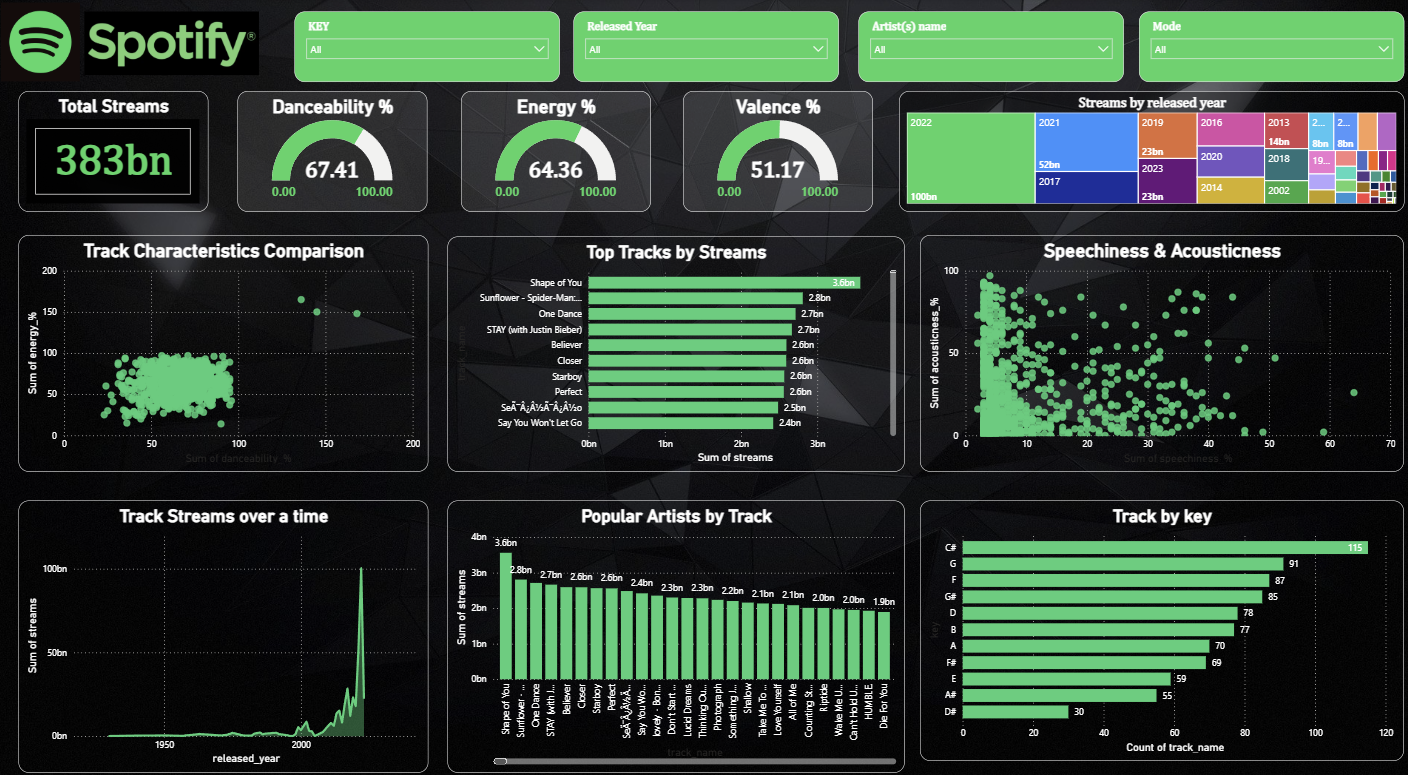

This screenshot's page, from the dashboard's own definition file:
{"tool":"powerbi","page":{"name":"Page 1","canvas":[1920,1080],"ordinal":0},"visuals":[{"type":"slicer","fields":{"Values":["Spotify Dataset.key"]},"box":[404.3,18.2,358.9,95.4],"z":0},{"type":"slicer","fields":{"Values":["Spotify Dataset.released_year"]},"box":[781.3,18.2,358.9,95.4],"z":1000},{"type":"slicer","fields":{"Values":["Spotify Dataset.artist(s)_name"]},"box":[1165.2,18.2,358.9,95.4],"z":2000},{"type":"slicer","fields":{"Values":["Spotify Dataset.mode"]},"box":[1544.5,18.2,358.9,95.4],"z":3000},{"type":"cardVisual","title":"Total Streams","fields":{"Data":["Sum(Spotify Dataset.streams)"]},"box":[29.5,124.9,256.7,163.5],"z":4000},{"type":"gauge","title":"Danceability %","fields":{"Y":["Avg(Spotify Dataset.danceability_%)"]},"box":[327.1,124.9,256.7,163.5],"z":5000},{"type":"gauge","title":"Energy %","fields":{"Y":["Avg(Spotify Dataset.energy_%)"]},"box":[629.2,124.9,256.7,163.5],"z":6000},{"type":"gauge","title":"Valence %","fields":{"Y":["Avg(Spotify Dataset.valence_%)"]},"box":[929,124.9,256.7,163.5],"z":7000},{"type":"treemap","title":"Streams by released year","fields":{"Group":["Spotify Dataset.released_year"],"Values":["Sum(Spotify Dataset.streams)"]},"box":[1219.7,124.9,683.7,163.5],"z":8000},{"type":"scatterChart","title":"Track Characteristics Comparison","fields":{"Category":["Spotify Dataset.streams"],"X":["Sum(Spotify Dataset.danceability_%)"],"Y":["Sum(Spotify Dataset.energy_%)"]},"box":[29.5,320.3,554.2,320.3],"z":9000},{"type":"clusteredBarChart","title":"Top Tracks by Streams","fields":{"Category":["Spotify Dataset.track_name"],"Y":["Sum(Spotify Dataset.streams)"]},"box":[611,322.5,617.8,318],"z":10000},{"type":"scatterChart","title":"Speechiness & Acousticness","fields":{"Category":["Spotify Dataset.streams"],"X":["Sum(Spotify Dataset.speechiness_%)"],"Y":["Sum(Spotify Dataset.acousticness_%)"]},"box":[1249.2,320.3,654.1,320.3],"z":11000},{"type":"areaChart","title":"Track Streams over a time","fields":{"Category":["Spotify Dataset.released_year"],"Y":["Sum(Spotify Dataset.streams)"]},"box":[29.5,679.1,554.2,368],"z":12000},{"type":"columnChart","title":"Popular Artists by Track","fields":{"Category":["Spotify Dataset.track_name"],"Y":["Sum(Spotify Dataset.streams)"]},"box":[611,679.1,617.8,368],"z":13000},{"type":"clusteredBarChart","title":"Track by key","fields":{"Category":["Spotify Dataset.key"],"Y":["CountNonNull(Spotify Dataset.track_name)"]},"box":[1249.2,679.1,654.1,352.1],"z":14000},{"type":"image","box":[0,6.8,120.4,106.8],"z":15000},{"type":"image","box":[104.5,18.2,263.5,86.3],"z":16000}]}

Visuals, with their boxes in screenshot pixels (x1, y1, x2, y2), scaled from the page's 1920x1080 canvas onto the 1408x775 screenshot:
slicer - Spotify Dataset.key: (296, 13, 560, 82)
slicer - Spotify Dataset.released_year: (573, 13, 836, 82)
slicer - Spotify Dataset.artist(s)_name: (854, 13, 1118, 82)
slicer - Spotify Dataset.mode: (1133, 13, 1396, 82)
"Total Streams" cardVisual: (22, 90, 210, 207)
"Danceability %" gauge: (240, 90, 428, 207)
"Energy %" gauge: (461, 90, 650, 207)
"Valence %" gauge: (681, 90, 870, 207)
"Streams by released year" treemap: (894, 90, 1396, 207)
"Track Characteristics Comparison" scatterChart: (22, 230, 428, 460)
"Top Tracks by Streams" clusteredBarChart: (448, 231, 901, 460)
"Speechiness & Acousticness" scatterChart: (916, 230, 1396, 460)
"Track Streams over a time" areaChart: (22, 487, 428, 751)
"Popular Artists by Track" columnChart: (448, 487, 901, 751)
"Track by key" clusteredBarChart: (916, 487, 1396, 740)
image: (0, 5, 88, 82)
image: (77, 13, 270, 75)
